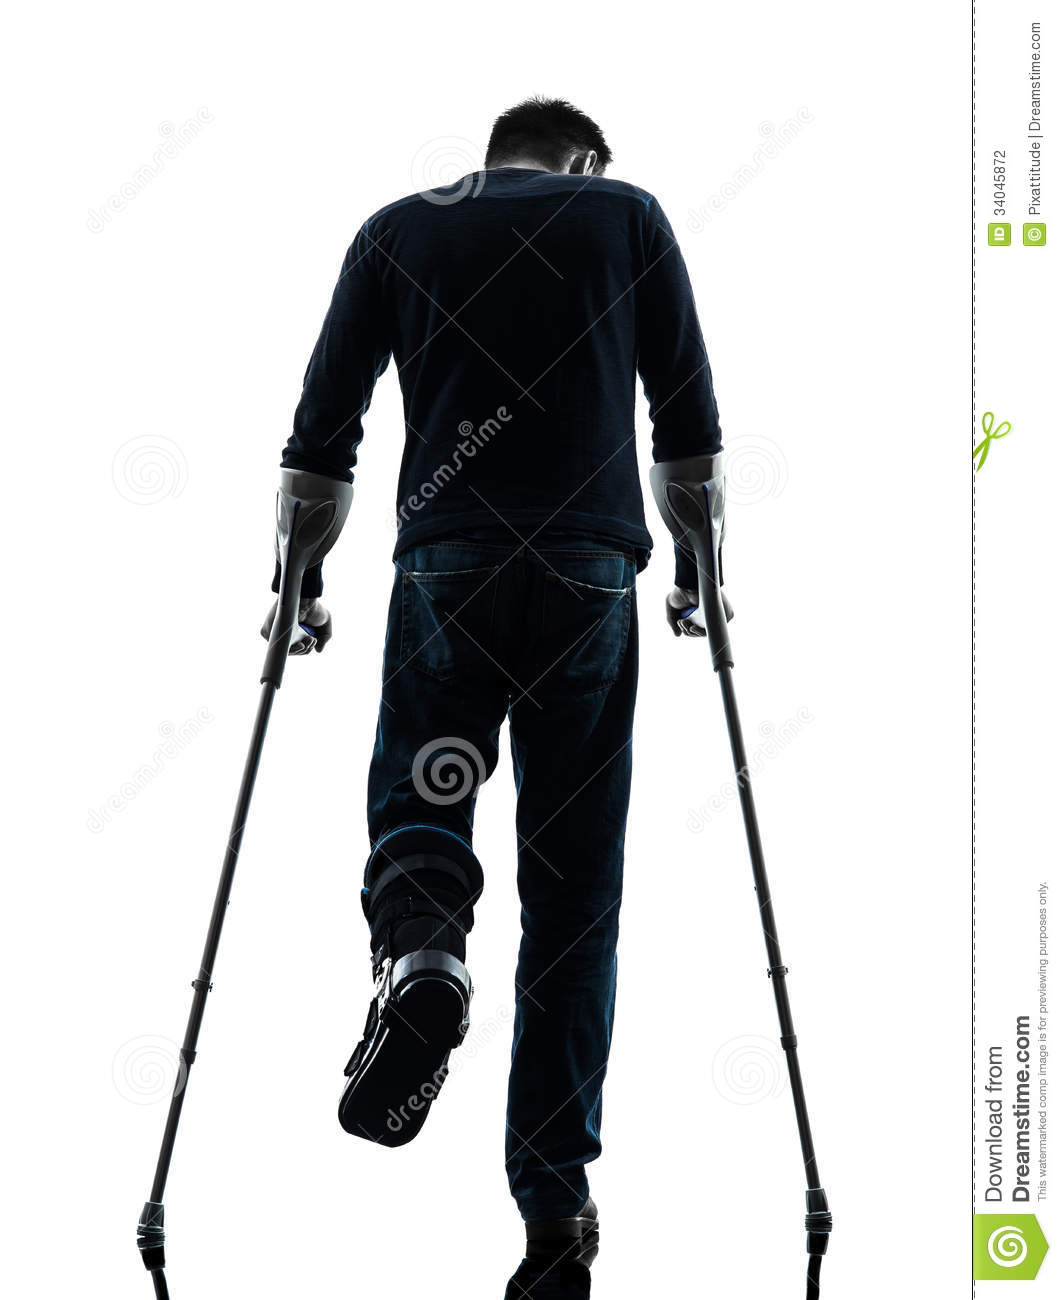crutches: (136, 93, 835, 1246)
